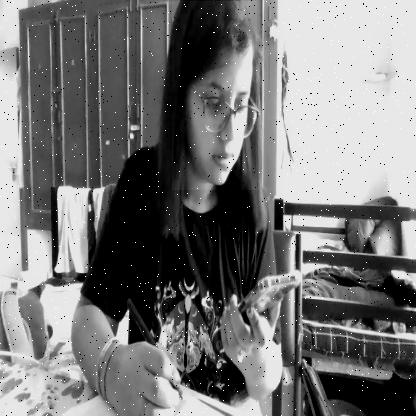Distracted: (172, 1, 257, 190)
